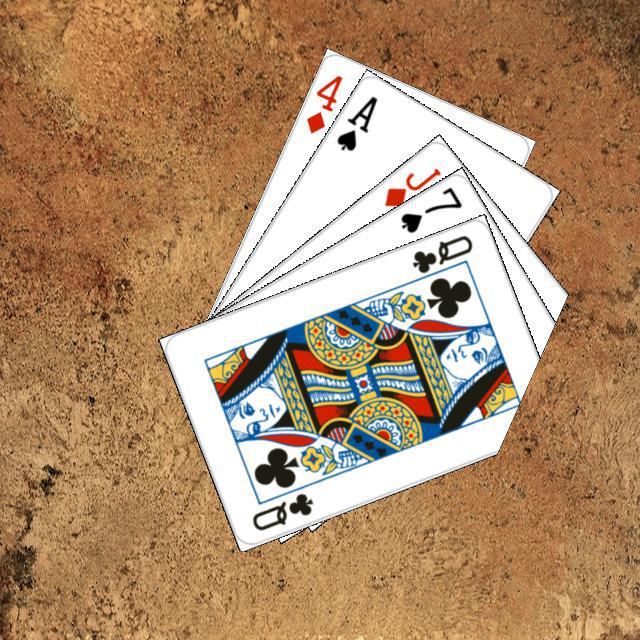4d: (301, 70, 344, 136)
7s: (395, 182, 464, 235)
As: (331, 90, 380, 153)
Jd: (379, 163, 443, 209)
Qc: (406, 230, 475, 285), (247, 488, 315, 533)
